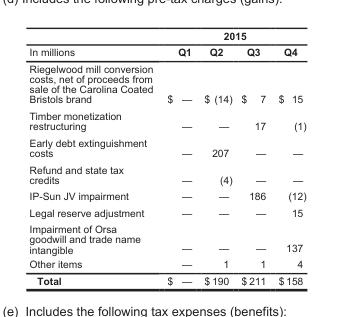table: (28, 29, 305, 285)
table column: (28, 29, 159, 285), (197, 29, 236, 285), (159, 29, 197, 285), (236, 29, 271, 285), (271, 29, 305, 285)
table column header: (28, 29, 305, 59)
table row: (28, 59, 305, 107), (28, 220, 305, 256), (28, 107, 305, 134), (28, 160, 305, 187), (28, 134, 305, 160), (28, 187, 305, 204), (28, 43, 305, 59), (28, 204, 305, 220), (28, 256, 305, 271), (28, 29, 305, 43), (28, 271, 305, 285)
table spanning cell: (28, 29, 159, 59), (159, 29, 305, 43)
